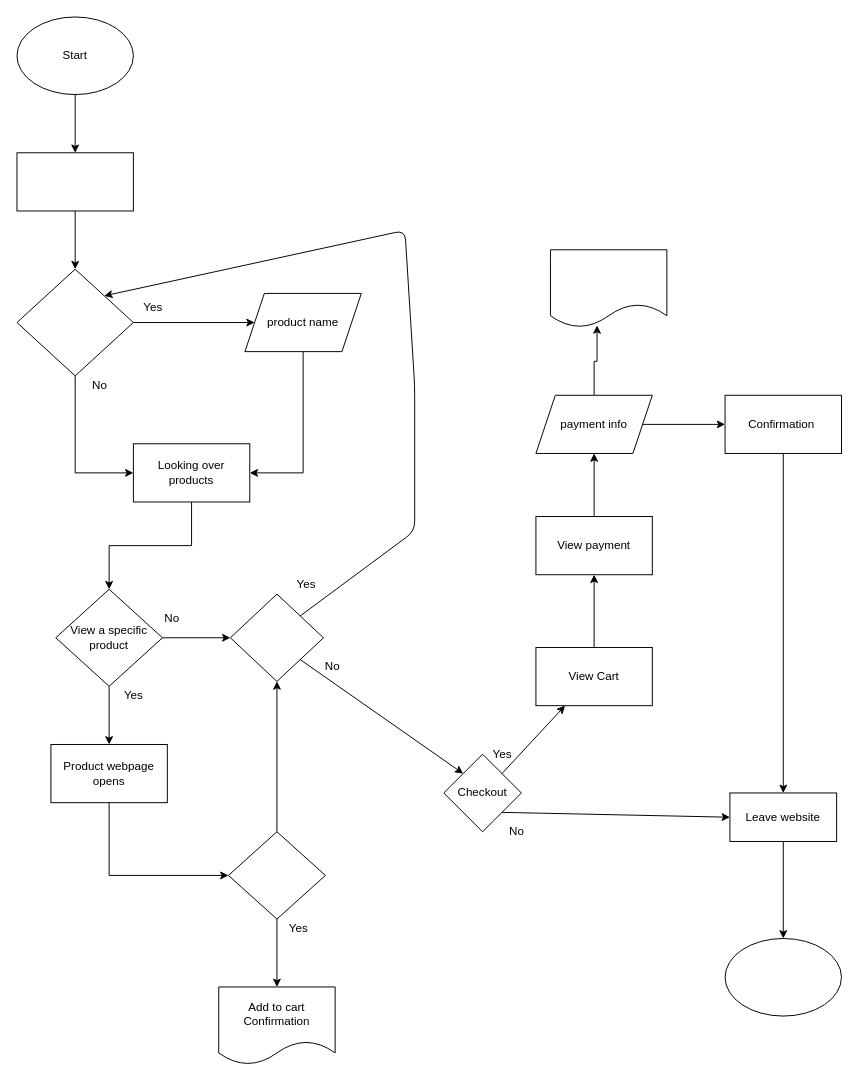
Some shapes in this 858 by 1082 pixel diagram are drawn without their labels. The centre of each missing label's shape, as x and y in pixels:
"Add to the cart" belongs at (276,875).
"Comfirmation Email" belongs at (608,288).
"Continue shopping" belongs at (276,637).
"Searching for a product" belongs at (74,322).
"Stop" belongs at (782,977).
"Users enter the website" belongs at (74,181).
